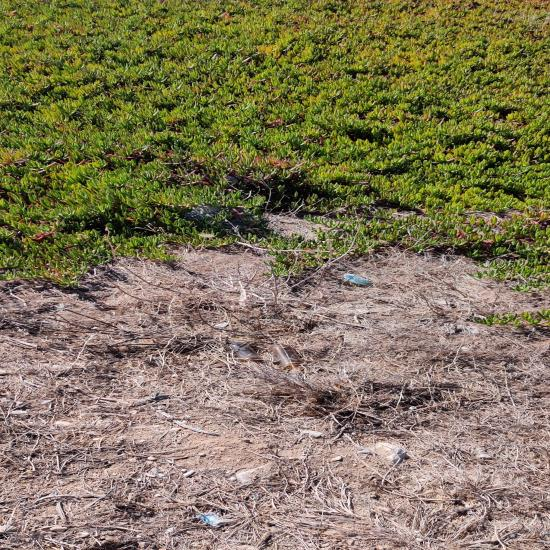Clear plastic bottle: (343, 274, 371, 286)
Glass bottle: (268, 344, 304, 370), (226, 342, 264, 365)
Other plastic: (197, 513, 224, 527)
